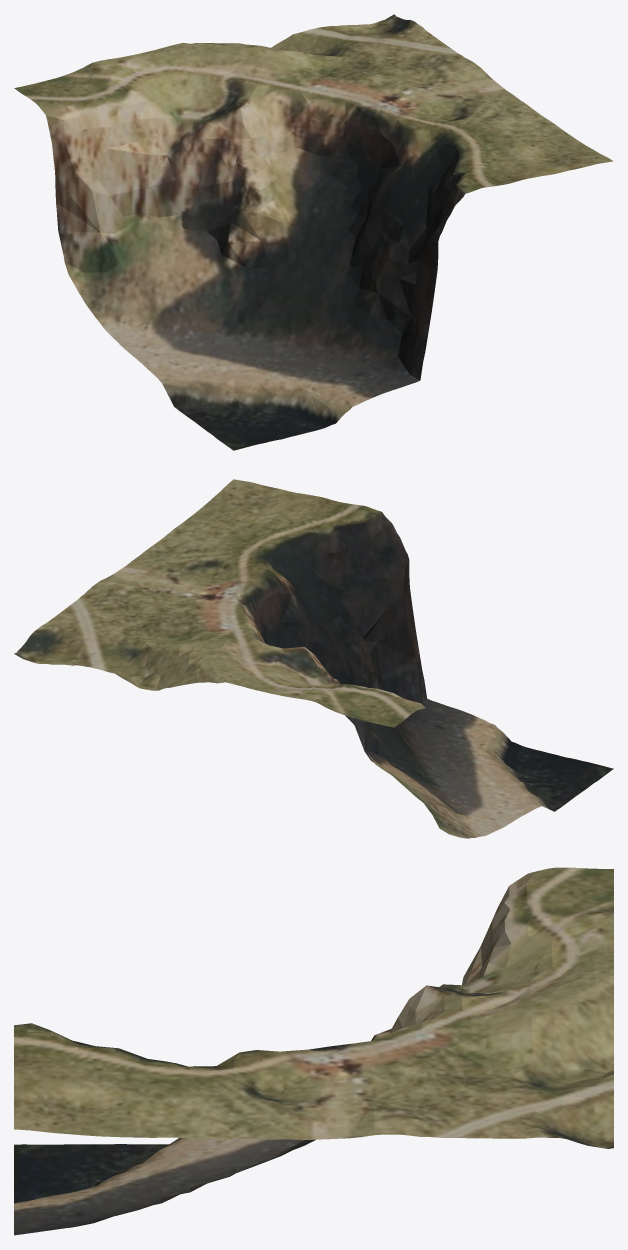
The picture shows the model from 3 angles, top to bottom: view 1: azimuth 30°, elevation 25°; view 2: azimuth 150°, elevation 25°; view 3: azimuth 270°, elevation 25°; orthographic projection. The views are drawn at different scales.
Bounding box in the file's own units: 104 × 54.79 × 104.
Materials: 3 (3 with a texture image).
